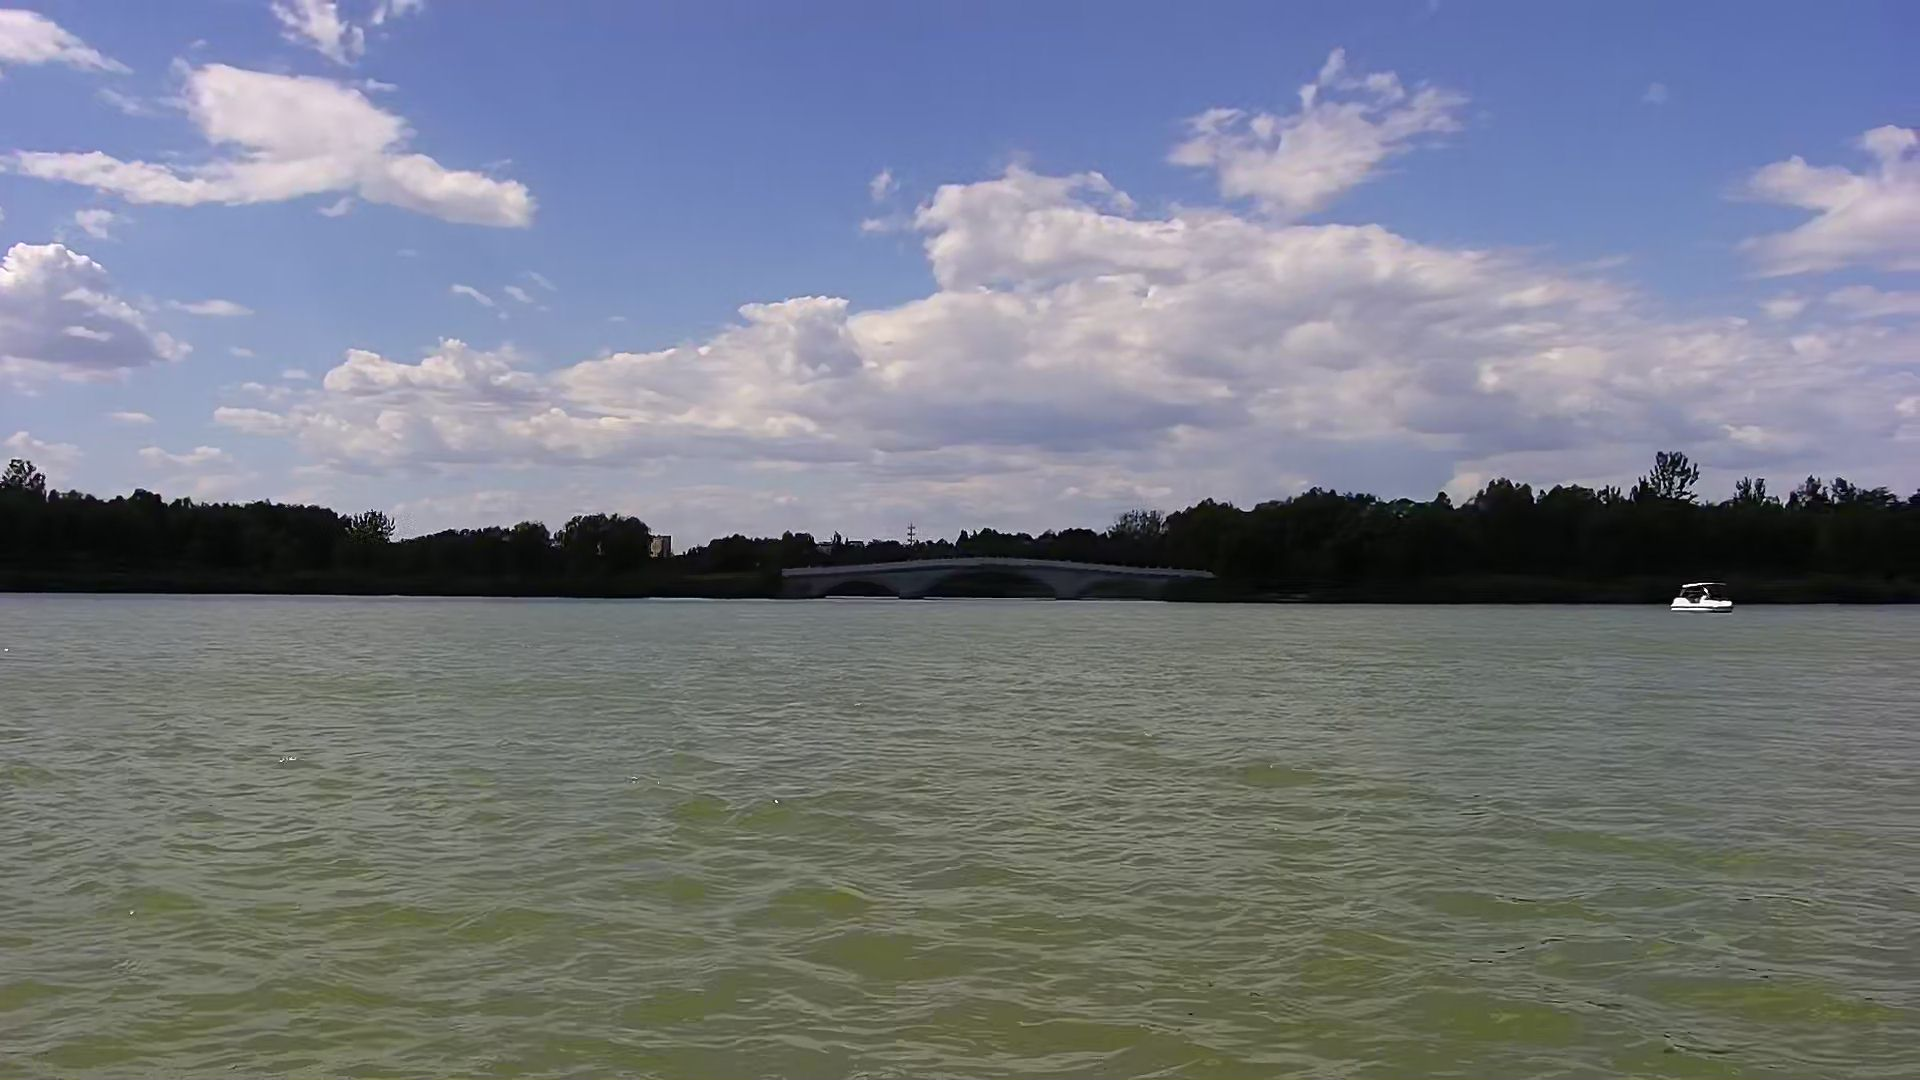boat: (1667, 578, 1741, 616)
bridge: (777, 554, 1207, 611)
